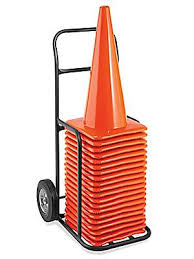cones: (67, 3, 140, 135)
